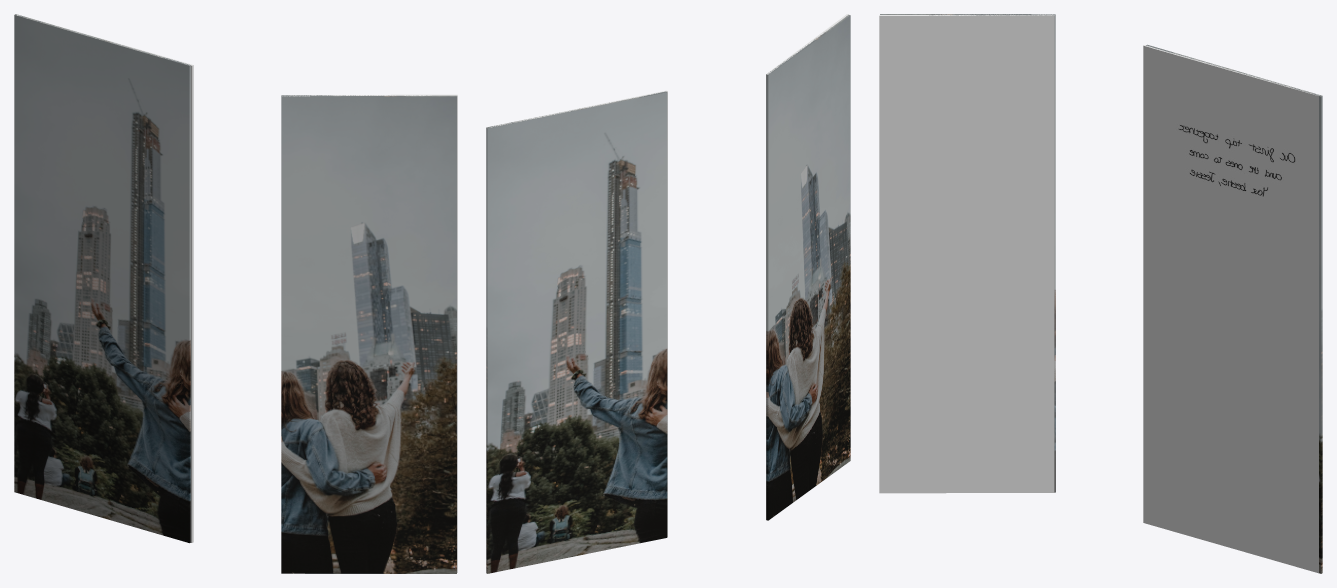
Rendered from Postcard5.fbx.
3 renders of one model, left to right at view 1: azimuth 90°, elevation 25°; view 2: azimuth 150°, elevation 25°; view 3: azimuth 270°, elevation 25°, orthographic. The views are drawn at different scales.
Visible parts, largest first — view 1: Postal1; view 2: Postal1; view 3: Postal1.
Boxes of the visible parts, x1,y1,x2,y2 form: Postal1: (14, 14, 457, 573); Postal1: (486, 14, 850, 573); Postal1: (879, 14, 1322, 573).
Bounding box in the file's own units: 37.18 × 100 × 84.25.
